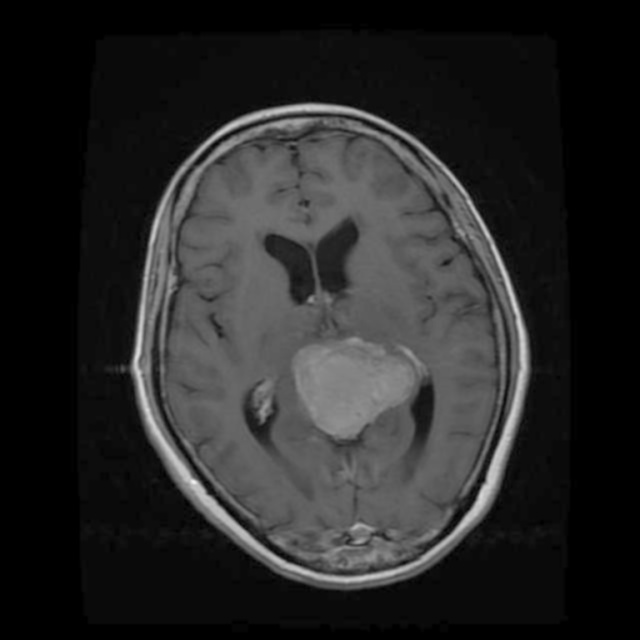meningioma tumor: (285, 332, 449, 447)
